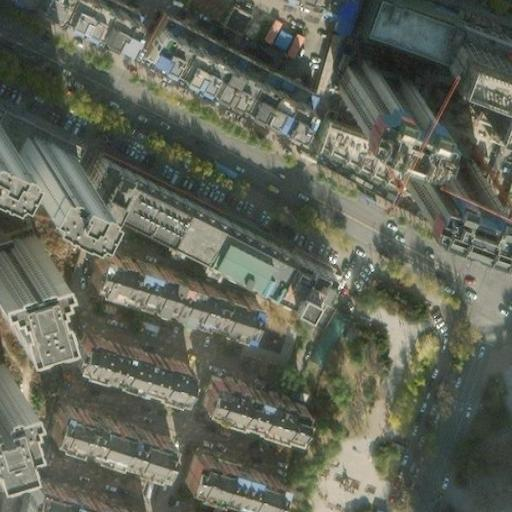building: (117, 184, 330, 331), (130, 26, 303, 137), (86, 245, 250, 328), (60, 335, 183, 405), (38, 400, 158, 468), (7, 0, 136, 54), (201, 370, 307, 435), (170, 448, 270, 508), (398, 139, 487, 200), (327, 46, 406, 104), (13, 477, 140, 512), (76, 165, 137, 231), (2, 133, 68, 189), (0, 228, 44, 309), (259, 14, 305, 57), (222, 0, 257, 32), (498, 368, 512, 424)
